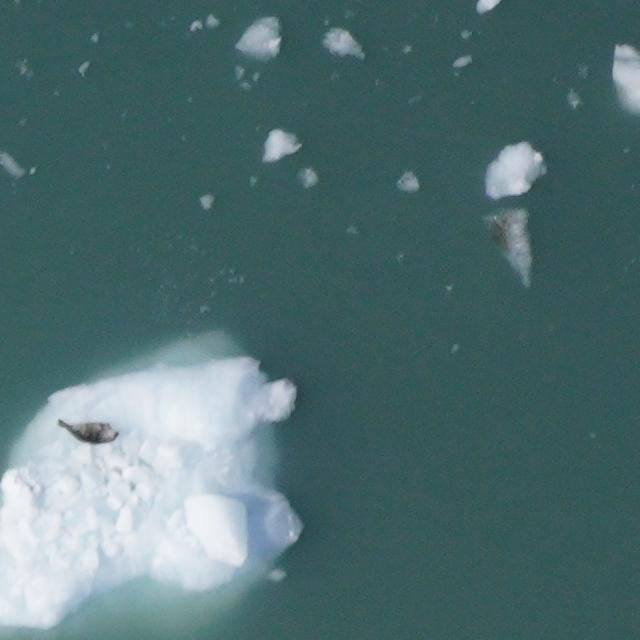seal: (54, 416, 123, 448)
